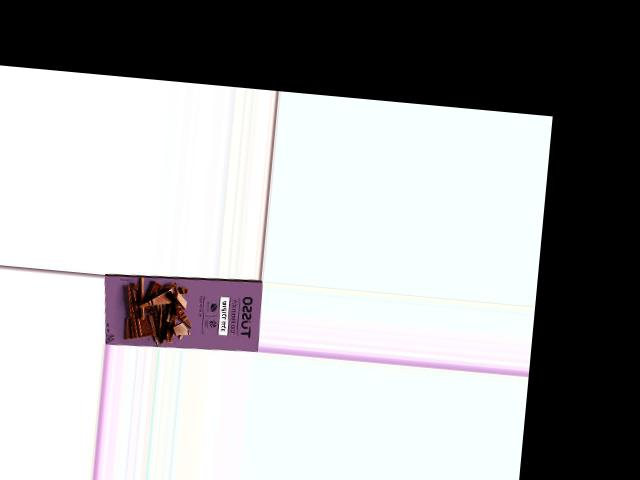chocolate: (98, 270, 260, 353)
